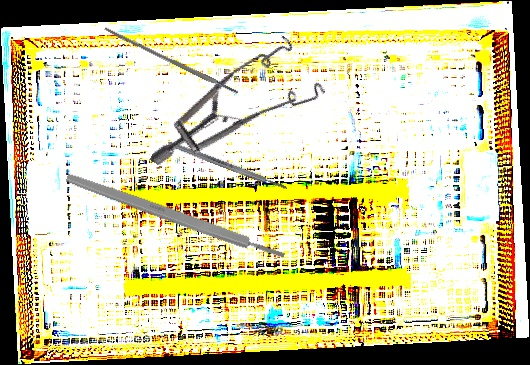Scalpel Handle: (64, 170, 287, 264), (103, 25, 239, 97), (166, 139, 289, 192)
Speculum: (149, 9, 339, 219)
